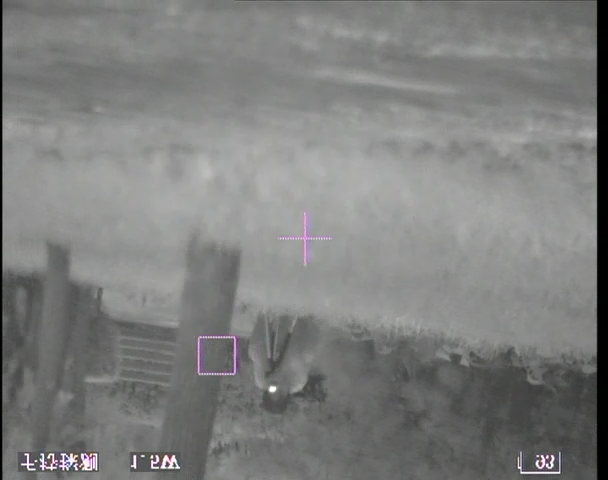my: (266, 384, 277, 395)
